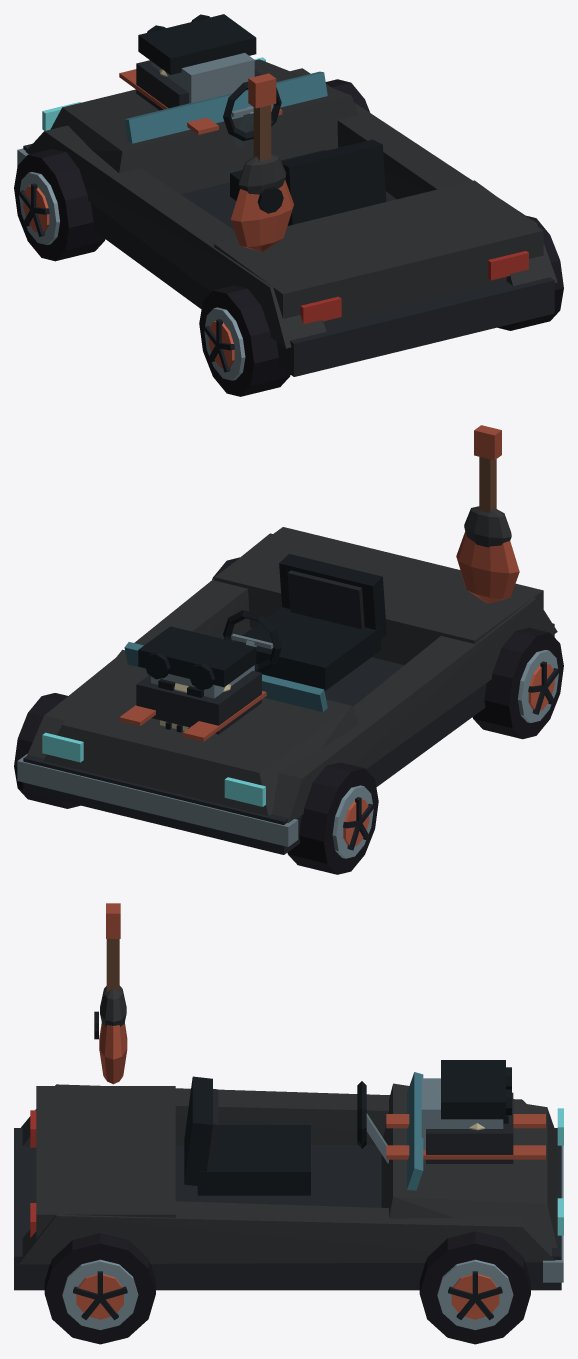
File: kart.glb
The picture shows the model from 3 angles, top to bottom: view 1: azimuth 30°, elevation 25°; view 2: azimuth 150°, elevation 25°; view 3: azimuth 270°, elevation 25°; orthographic projection.
Parts seen in each view (by area): view 1: identity-muscle-car-muscle-car-road-car-body, identity-muscle-car-driver-cockpit, identity-muscle-car-motif-blower, wheel-front-left, wheel-rear-left, identity-muscle-car-motif-guitar, wheel-rear-right, wheel-front-right; view 2: identity-muscle-car-muscle-car-road-car-body, identity-muscle-car-driver-cockpit, wheel-front-left, wheel-rear-left, identity-muscle-car-motif-guitar, identity-muscle-car-motif-blower, wheel-front-right, identity-muscle-car-motif-skull; view 3: identity-muscle-car-muscle-car-road-car-body, identity-muscle-car-driver-cockpit, wheel-front-right, wheel-rear-right, identity-muscle-car-motif-blower, identity-muscle-car-motif-guitar.
Part boxes in pixels (box(x1,y1,x2,y2)): identity-muscle-car-muscle-car-road-car-body: box(17, 57, 557, 376); identity-muscle-car-driver-cockpit: box(223, 81, 386, 225); identity-muscle-car-motif-blower: box(138, 14, 256, 103); wheel-front-left: box(14, 149, 105, 261); wheel-rear-left: box(199, 285, 290, 396); identity-muscle-car-motif-guitar: box(230, 73, 293, 251); wheel-rear-right: box(497, 215, 563, 330); wheel-front-right: box(325, 79, 369, 112); identity-muscle-car-muscle-car-road-car-body: box(17, 527, 557, 854); identity-muscle-car-driver-cockpit: box(223, 554, 386, 690); wheel-front-left: box(287, 762, 378, 874); wheel-rear-left: box(472, 627, 563, 739); identity-muscle-car-motif-guitar: box(456, 425, 519, 603); identity-muscle-car-motif-blower: box(138, 626, 256, 698); wheel-front-right: box(14, 693, 80, 808); identity-muscle-car-motif-skull: box(158, 679, 230, 732); identity-muscle-car-muscle-car-road-car-body: box(14, 1072, 563, 1290); identity-muscle-car-driver-cockpit: box(184, 1076, 388, 1195); wheel-front-right: box(419, 1231, 530, 1344); wheel-rear-right: box(44, 1233, 155, 1344); identity-muscle-car-motif-blower: box(421, 1060, 511, 1150); identity-muscle-car-motif-guitar: box(94, 903, 127, 1084).
Size of the model in its own units: 2.07 by 1.8 by 2.96.
